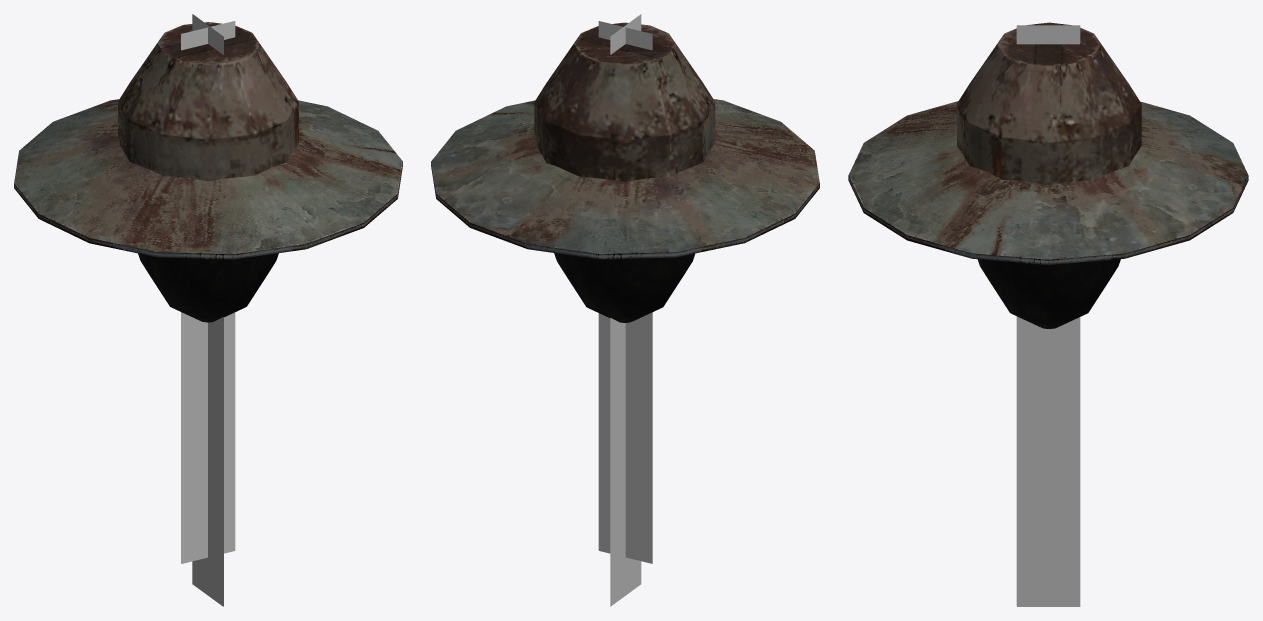
The model's file is cellar_gaslamp01.DAE.
3 renders of one model, left to right at view 1: azimuth 30°, elevation 25°; view 2: azimuth 150°, elevation 25°; view 3: azimuth 270°, elevation 25°, orthographic. The views are drawn at different scales.
Parts seen in each view (by area): view 1: Box008, Box006, Cylinder001, Box009; view 2: Box008, Box006, Cylinder001, Box009; view 3: Box008, Box006, Cylinder001.
Boxes of the visible parts, x1,y1,x2,y2 form: Box008: (14, 22, 402, 259); Box006: (181, 14, 235, 606); Cylinder001: (138, 253, 278, 322); Box009: (181, 21, 235, 50); Box008: (431, 22, 819, 259); Box006: (598, 14, 652, 606); Cylinder001: (554, 253, 694, 322); Box009: (598, 21, 652, 50); Box008: (848, 22, 1248, 265); Box006: (1016, 25, 1080, 606); Cylinder001: (977, 259, 1120, 328).
Size of the model in its own units: 0.6813 by 0.6813 by 1.09.
